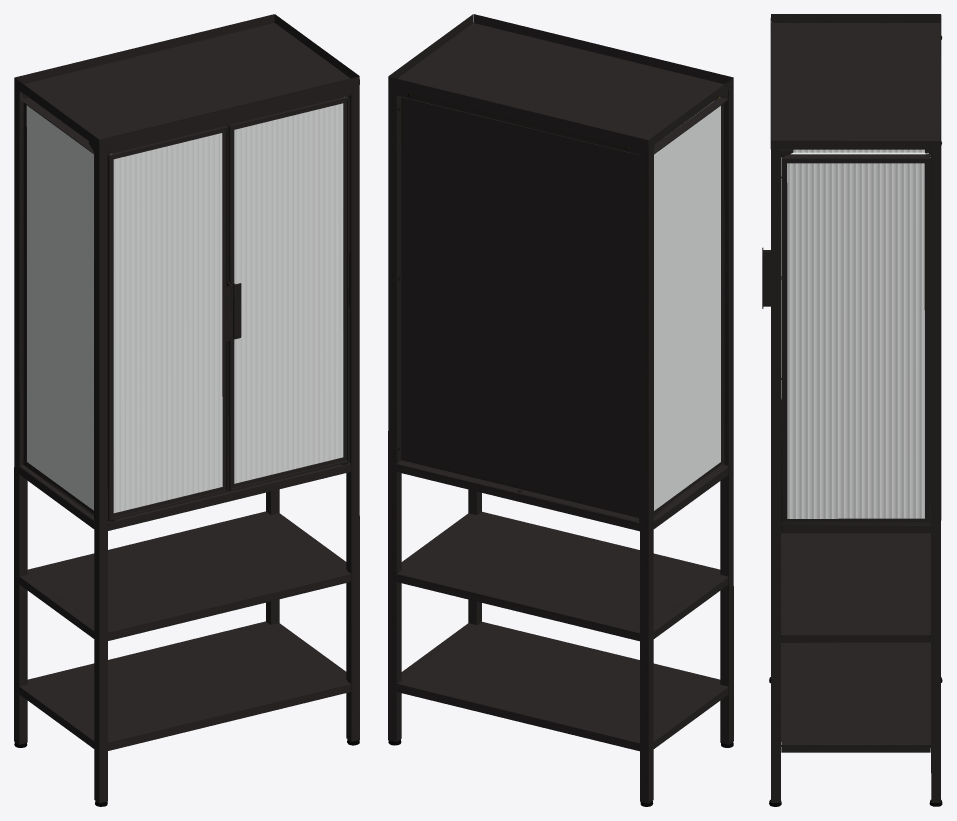
File: mossjon_witryna_z_2_drzwi_30564333.glb
The picture shows the model from 3 angles, left to right: view 1: azimuth 30°, elevation 25°; view 2: azimuth 150°, elevation 25°; view 3: azimuth 270°, elevation 25°; orthographic projection.
Parts seen in each view (by area): view 1: mossjon_witryna_z_2_drzwi_30564333; view 2: mossjon_witryna_z_2_drzwi_30564333; view 3: mossjon_witryna_z_2_drzwi_30564333.
Part boxes in pixels (box(x1,y1,x2,y2)): mossjon_witryna_z_2_drzwi_30564333: box(14, 14, 359, 806); mossjon_witryna_z_2_drzwi_30564333: box(388, 14, 733, 806); mossjon_witryna_z_2_drzwi_30564333: box(762, 14, 942, 806).
Size of the model in its own units: 0.6057 by 1.47 by 0.3599.
2 materials, 2 textured.
